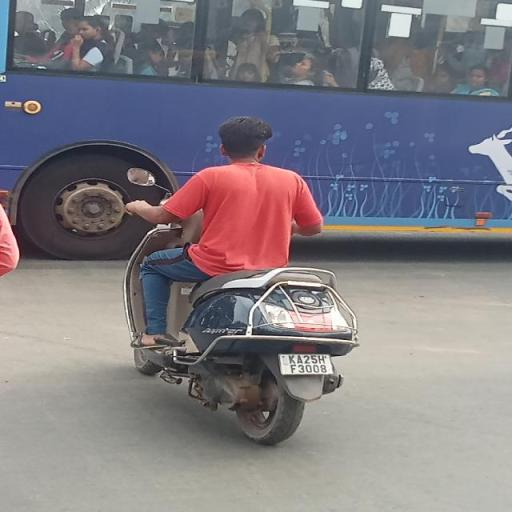bike: (114, 109, 365, 447)
numberplate: (278, 353, 333, 376)
withouthelmet: (218, 115, 272, 158)
